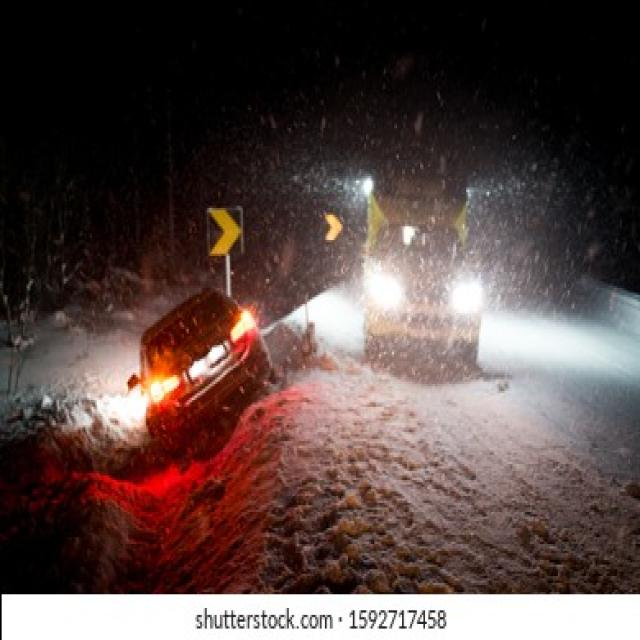Accident: (123, 286, 285, 467)
